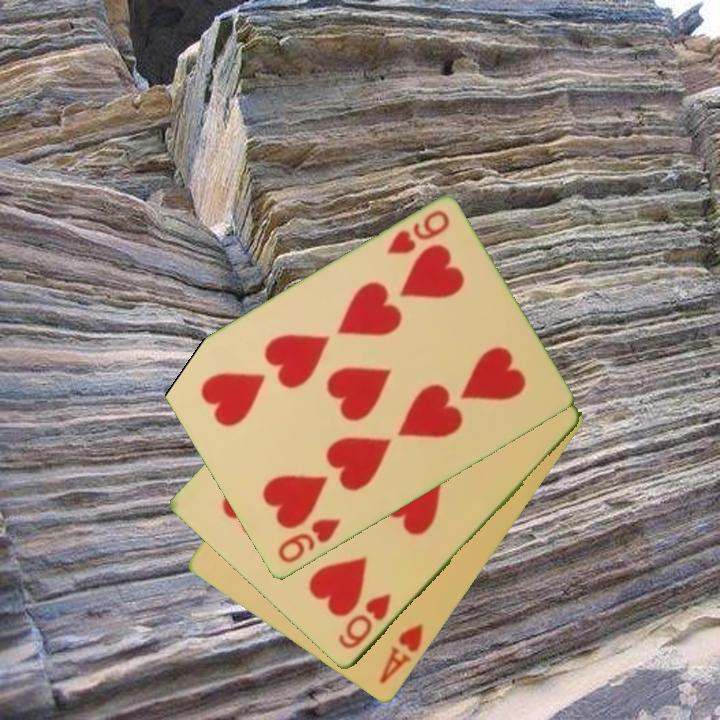6h: (334, 590, 395, 653)
9h: (274, 515, 344, 567), (383, 207, 453, 258)
Ah: (375, 620, 426, 688)
